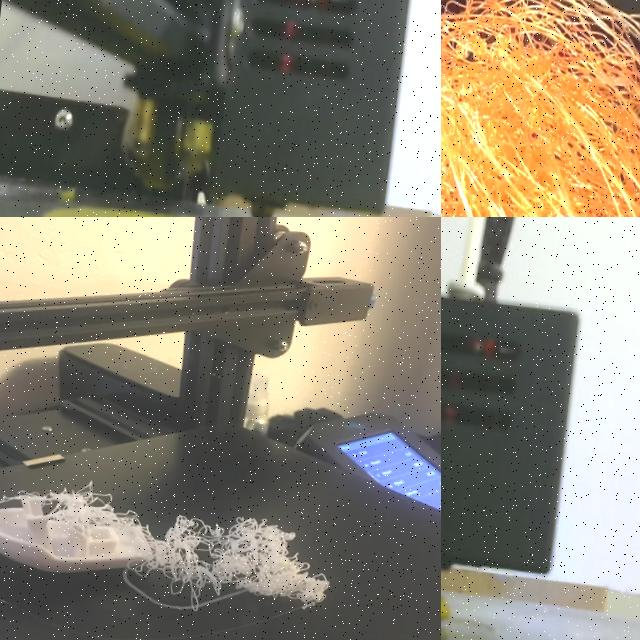spaghetti: (0, 465, 364, 638), (441, 0, 640, 217), (441, 562, 474, 640)
